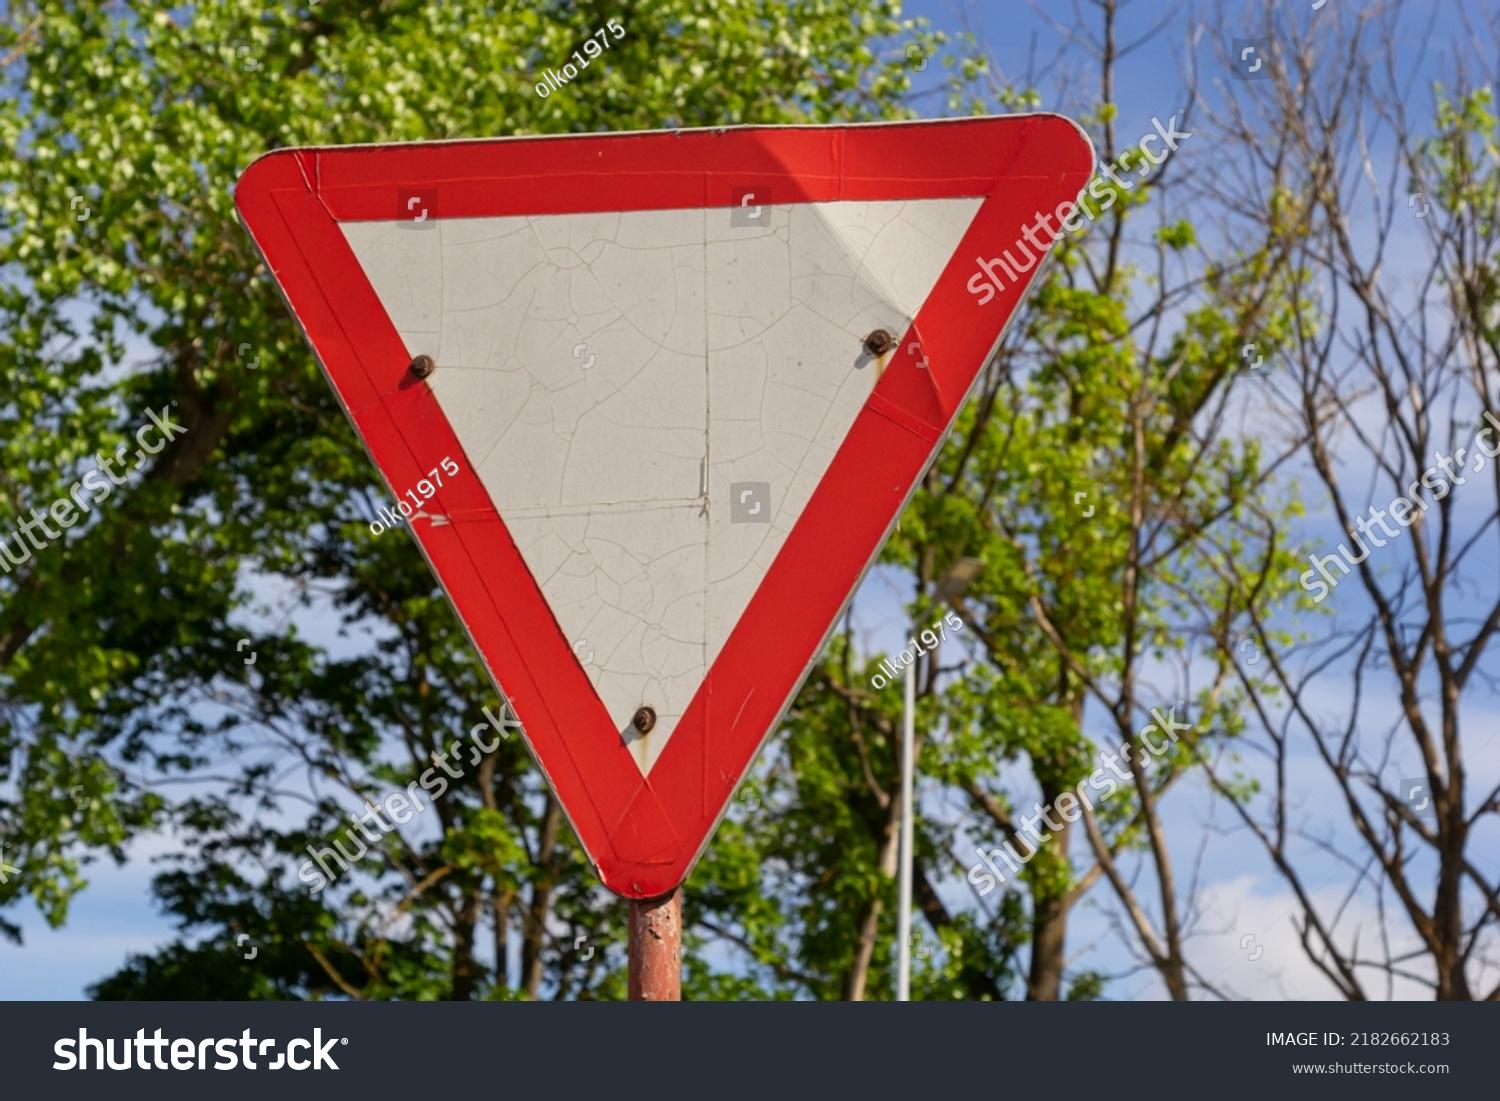Give Way: (228, 98, 1166, 894)
